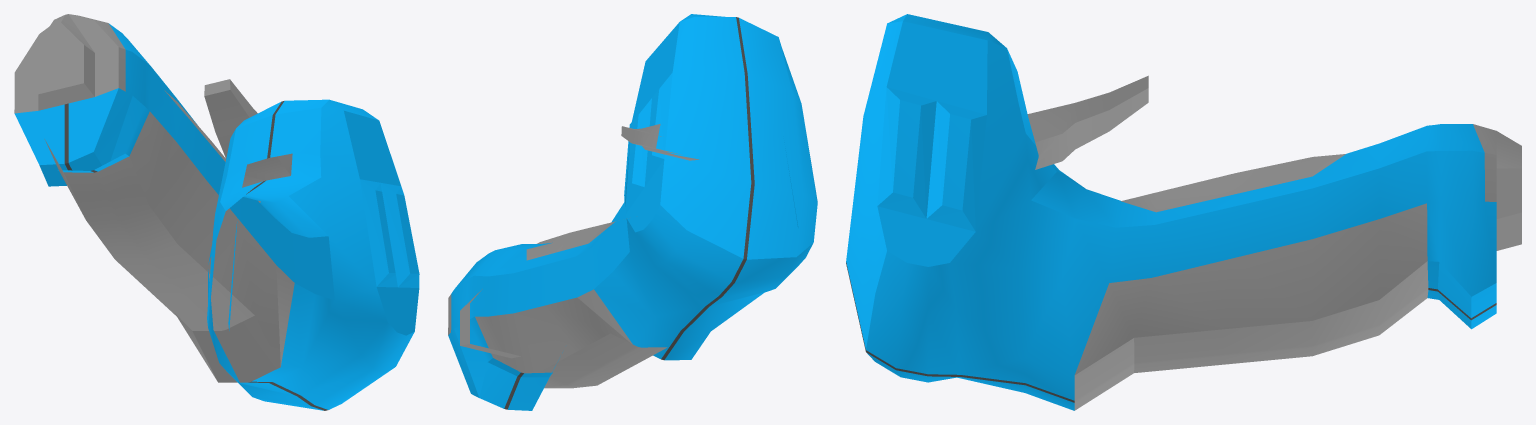
The model's file is ps2_save-icons_grooveriderslotcarracing.glb.
3 views of the same model, side by side, from view 1: azimuth 30°, elevation 25°; view 2: azimuth 150°, elevation 25°; view 3: azimuth 270°, elevation 25° (orthographic). The views are drawn at different scales.
Visible parts, largest first — view 1: icon; view 2: icon; view 3: icon.
Part boxes in pixels (x1,y1,x2,y2): icon: (14, 14, 419, 410); icon: (448, 14, 817, 410); icon: (846, 14, 1521, 410).
Bounding box in the file's own units: 1.72 × 2.9 × 4.78.
Materials: 1 (1 with a texture image).
